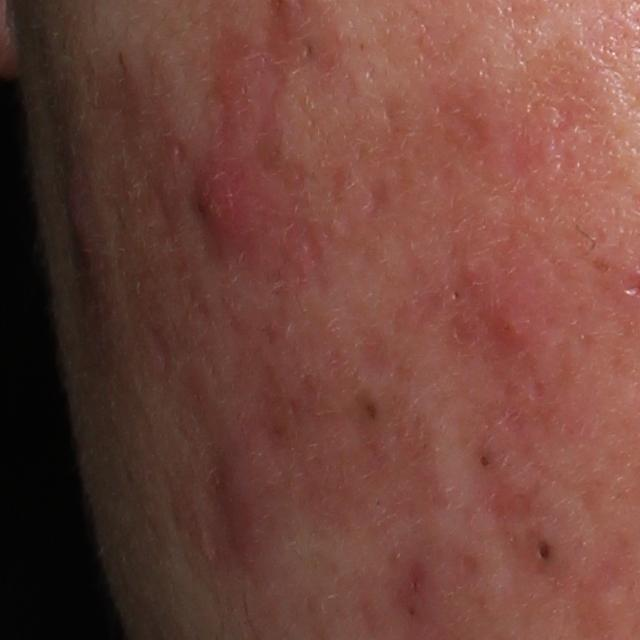comedo: (535, 540, 554, 565), (477, 448, 495, 469)
nodule: (209, 429, 278, 596)
papule: (185, 149, 256, 262), (481, 293, 533, 353)
